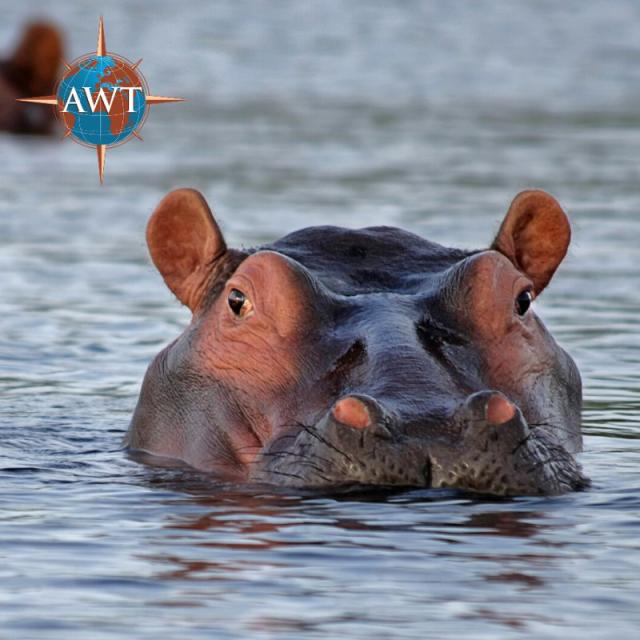Hippopotamus: (121, 186, 597, 509)
